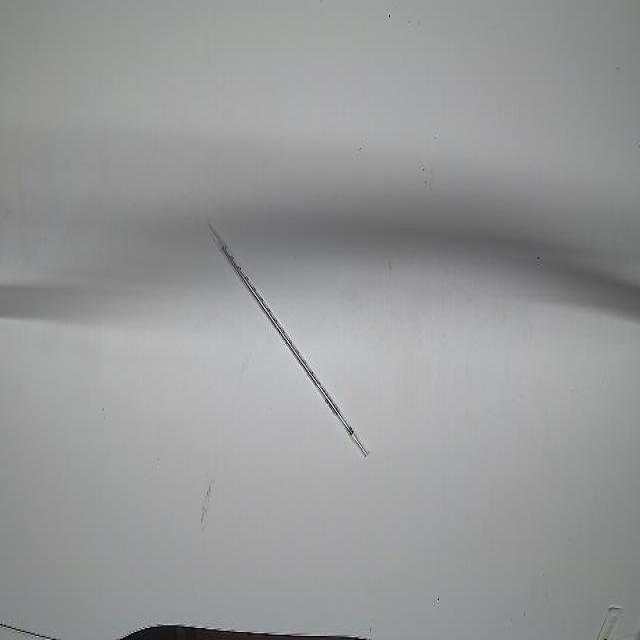Serelogical Pipet 2 mL: (202, 218, 371, 460)
